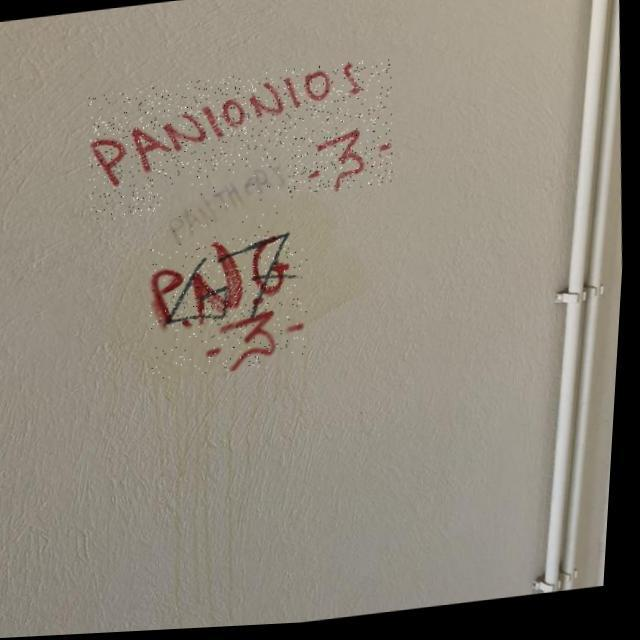-: (84, 60, 400, 224), (145, 231, 319, 382), (165, 234, 306, 330), (169, 166, 294, 250)
